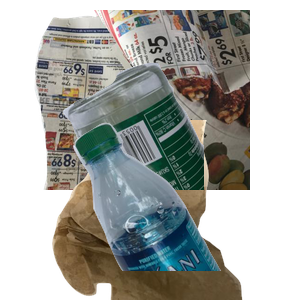glass: (60, 60, 300, 240)
paper: (32, 10, 272, 190)
plastic: (71, 120, 300, 300)
trash: (50, 120, 285, 300)
